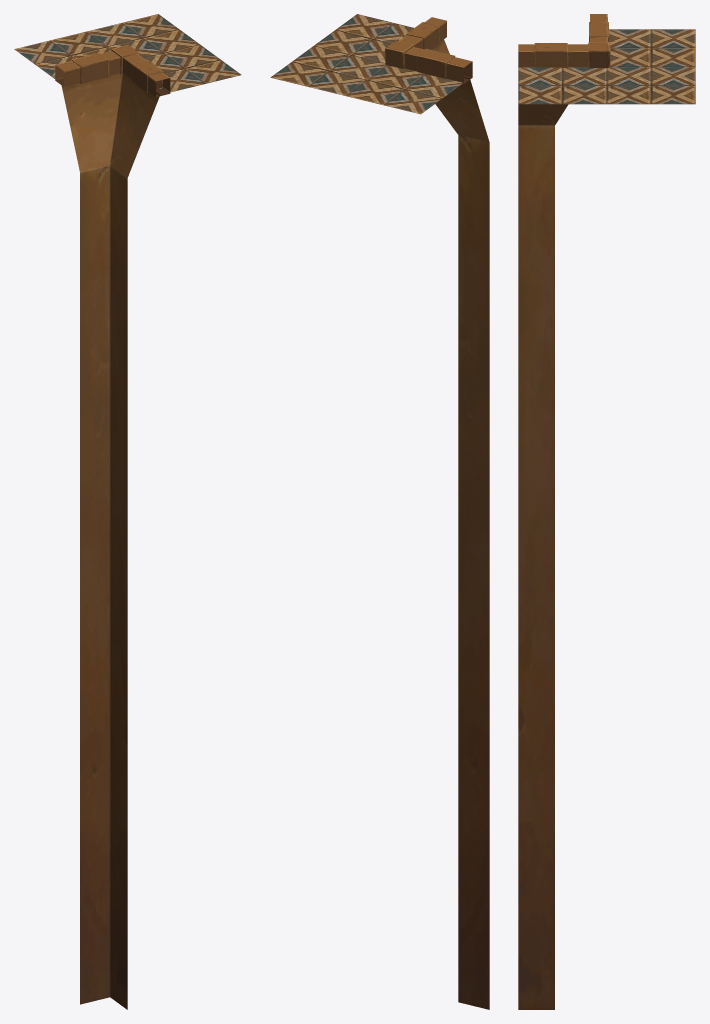
Rendered from shakian_cliff_base24_wallunder01_02.FBX.
The picture shows the model from 3 angles, left to right: view 1: azimuth 30°, elevation 25°; view 2: azimuth 150°, elevation 25°; view 3: azimuth 270°, elevation 25°; orthographic projection. The views are drawn at different scales.
Visible parts, largest first — view 1: shakian_cliff_base24_wallunder01_02; view 2: shakian_cliff_base24_wallunder01_02; view 3: shakian_cliff_base24_wallunder01_02.
Boxes of the visible parts, x1=… form: shakian_cliff_base24_wallunder01_02: x1=14, y1=14, x2=241, y2=1009; shakian_cliff_base24_wallunder01_02: x1=270, y1=14, x2=489, y2=1009; shakian_cliff_base24_wallunder01_02: x1=518, y1=14, x2=695, y2=1009.
Size of the model in its own units: 4 by 24.42 by 4.
